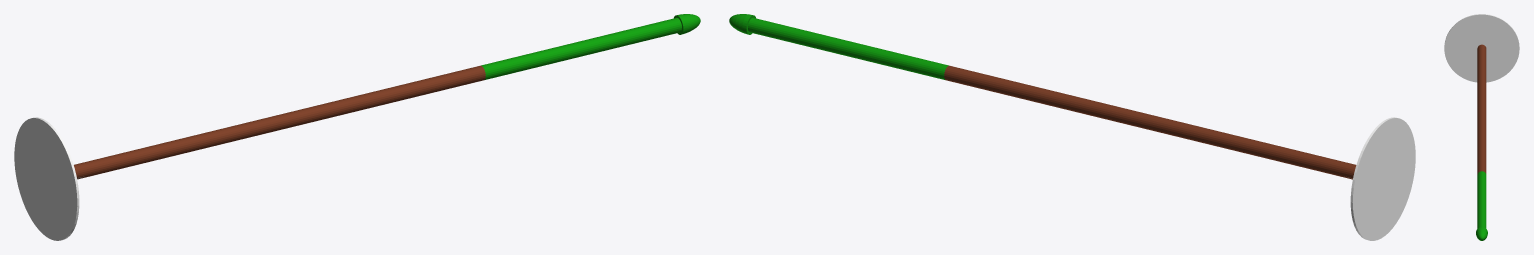
File: ken_part3.dae
3 renders of one model, left to right at view 1: azimuth 30°, elevation 25°; view 2: azimuth 150°, elevation 25°; view 3: azimuth 270°, elevation 25°, orthographic. The views are drawn at different scales.
Parts seen in each view (by area): view 1: ken_part3_for_sim; view 2: ken_part3_for_sim; view 3: ken_part3_for_sim.
Part boxes in pixels (left/top/right/bottom): ken_part3_for_sim: left=14, top=14, right=700, bottom=240; ken_part3_for_sim: left=729, top=14, right=1415, bottom=240; ken_part3_for_sim: left=1444, top=14, right=1519, bottom=240.
Size of the model in its own units: 0.3 by 0.05 by 0.05.
